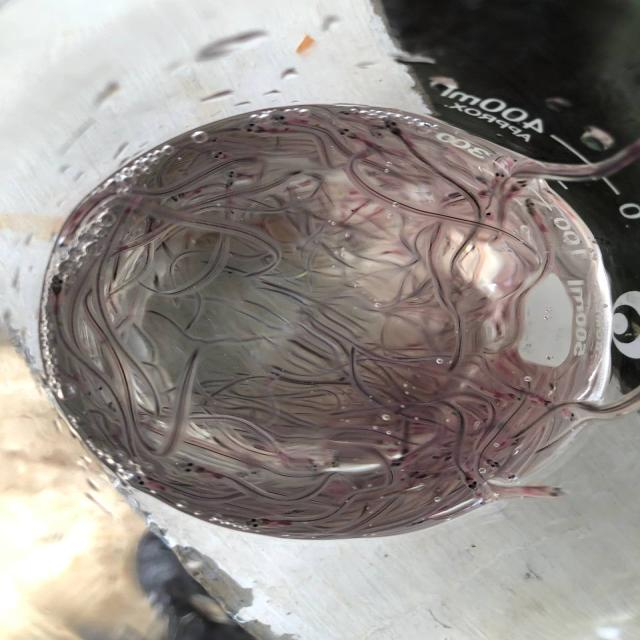glass_eel: (45, 272, 69, 294), (536, 484, 568, 500), (242, 516, 275, 530), (506, 180, 534, 196), (127, 474, 159, 488), (380, 116, 401, 136), (176, 462, 201, 476), (522, 198, 539, 218), (462, 475, 482, 491), (488, 170, 507, 184), (240, 122, 262, 134), (486, 456, 504, 470), (269, 113, 288, 126), (211, 150, 230, 162), (561, 409, 577, 423), (223, 168, 240, 180), (387, 460, 404, 472), (327, 460, 344, 471), (168, 192, 182, 205), (338, 127, 353, 139), (501, 472, 518, 482), (306, 464, 322, 474), (484, 208, 494, 222), (209, 135, 221, 146), (146, 215, 158, 226), (337, 108, 352, 116)
